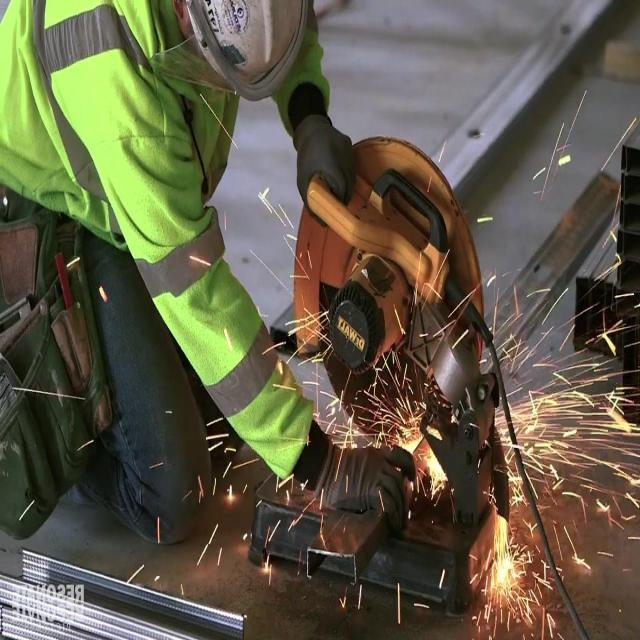Safety-Helmet: (181, 0, 308, 108)
